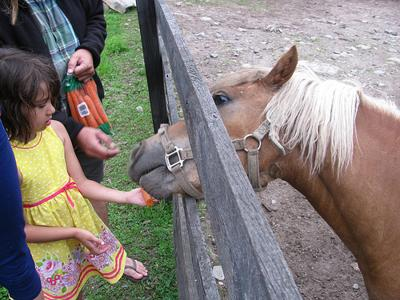person: (1, 51, 158, 300)
